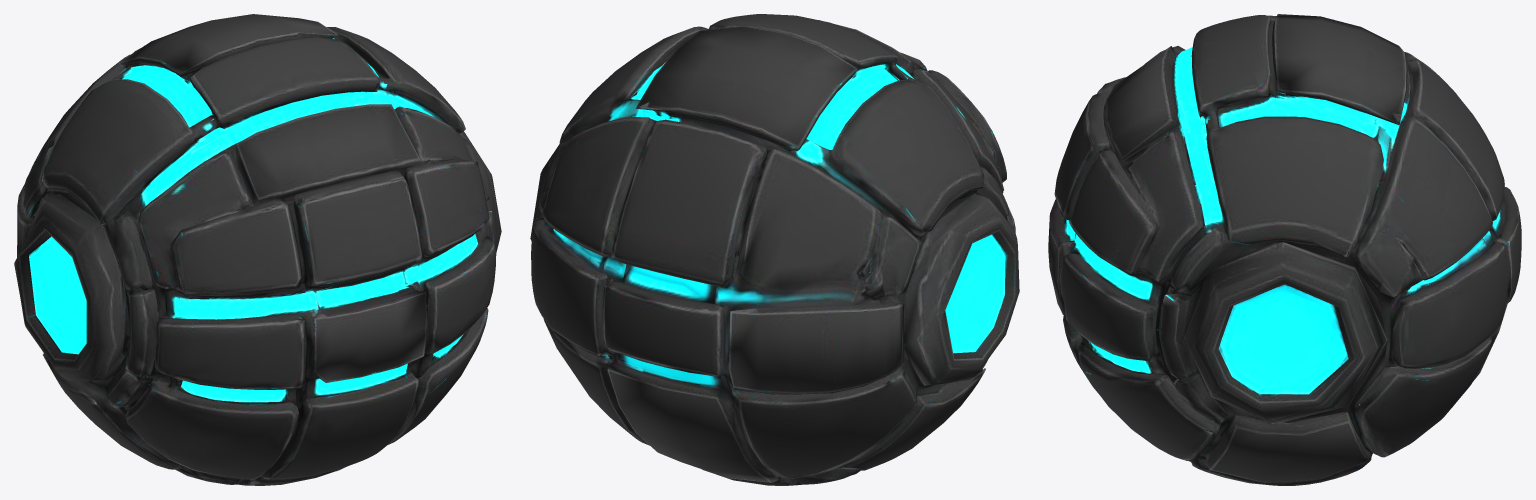
Rendered from aci-01.glb.
3 renders of one model, left to right at view 1: azimuth 30°, elevation 25°; view 2: azimuth 150°, elevation 25°; view 3: azimuth 270°, elevation 25°, orthographic.
Parts seen in each view (by area): view 1: drony3-master; view 2: drony3-master; view 3: drony3-master.
Part boxes in pixels (x1,y1,x2,y2): drony3-master: (14, 14, 501, 485); drony3-master: (530, 14, 1019, 485); drony3-master: (1048, 14, 1521, 485).
Size of the model in its own units: 1.88 by 1.88 by 1.9.
Materials: 1 (1 with a texture image).
